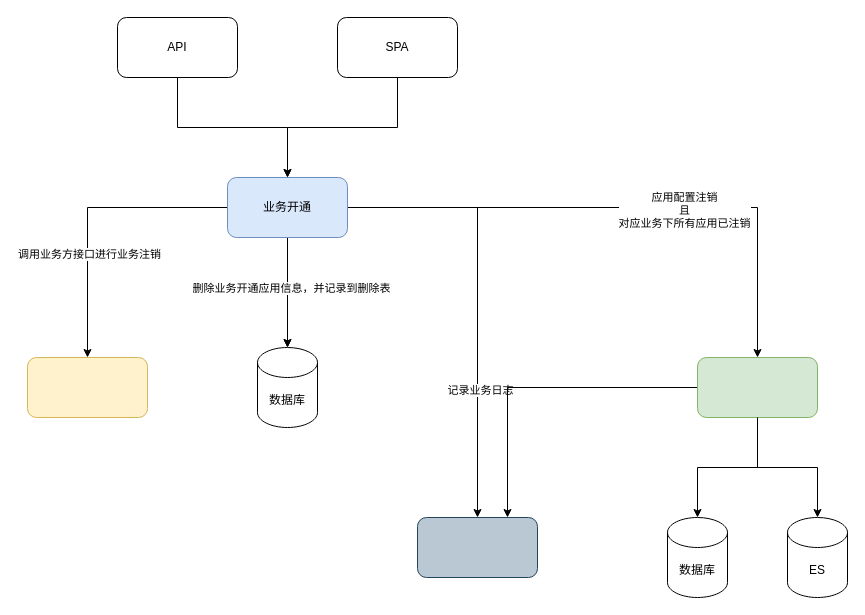
This 865x615 diagram has some shape labels left out. Each missing label, with the centre of its shape:
业务方接口: (87,387)
业务日志: (477,547)
客户关系: (757,387)
